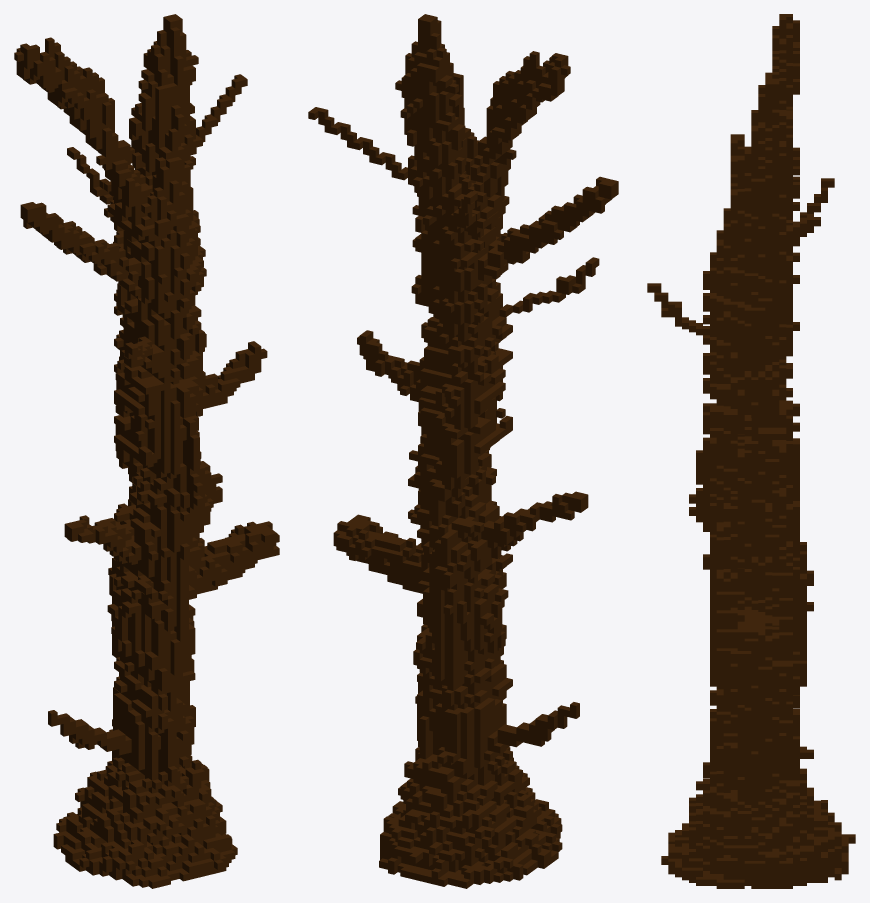
The model's file is Horror Long tree.obj.
The picture shows the model from 3 angles, left to right: view 1: azimuth 30°, elevation 25°; view 2: azimuth 150°, elevation 25°; view 3: azimuth 270°, elevation 25°; orthographic projection. The views are drawn at different scales.
Size of the model in its own units: 42 by 126 by 30.
1 material, 1 textured.
